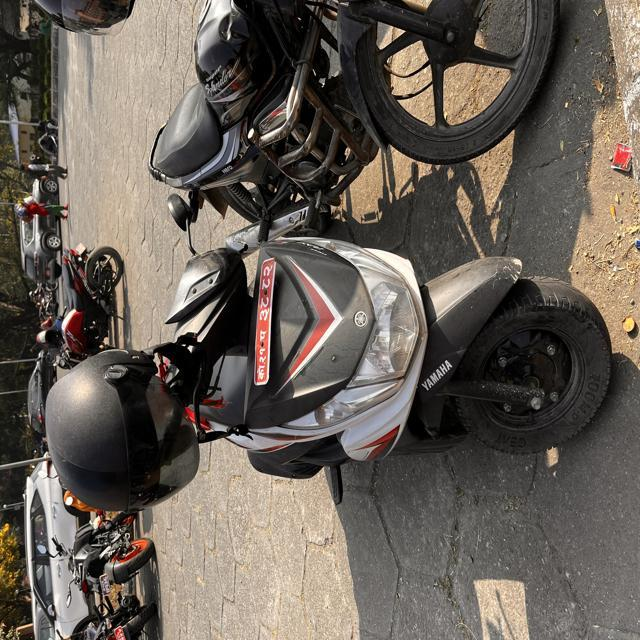license_plate: (252, 254, 284, 409)
